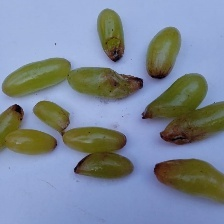grapes: (60, 3, 204, 193)
